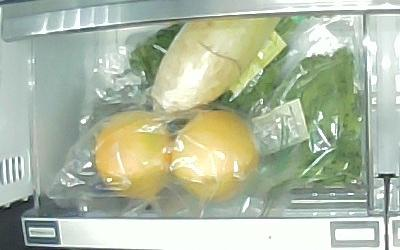grapefruit_vinyl: (172, 111, 260, 202), (96, 111, 176, 199)
